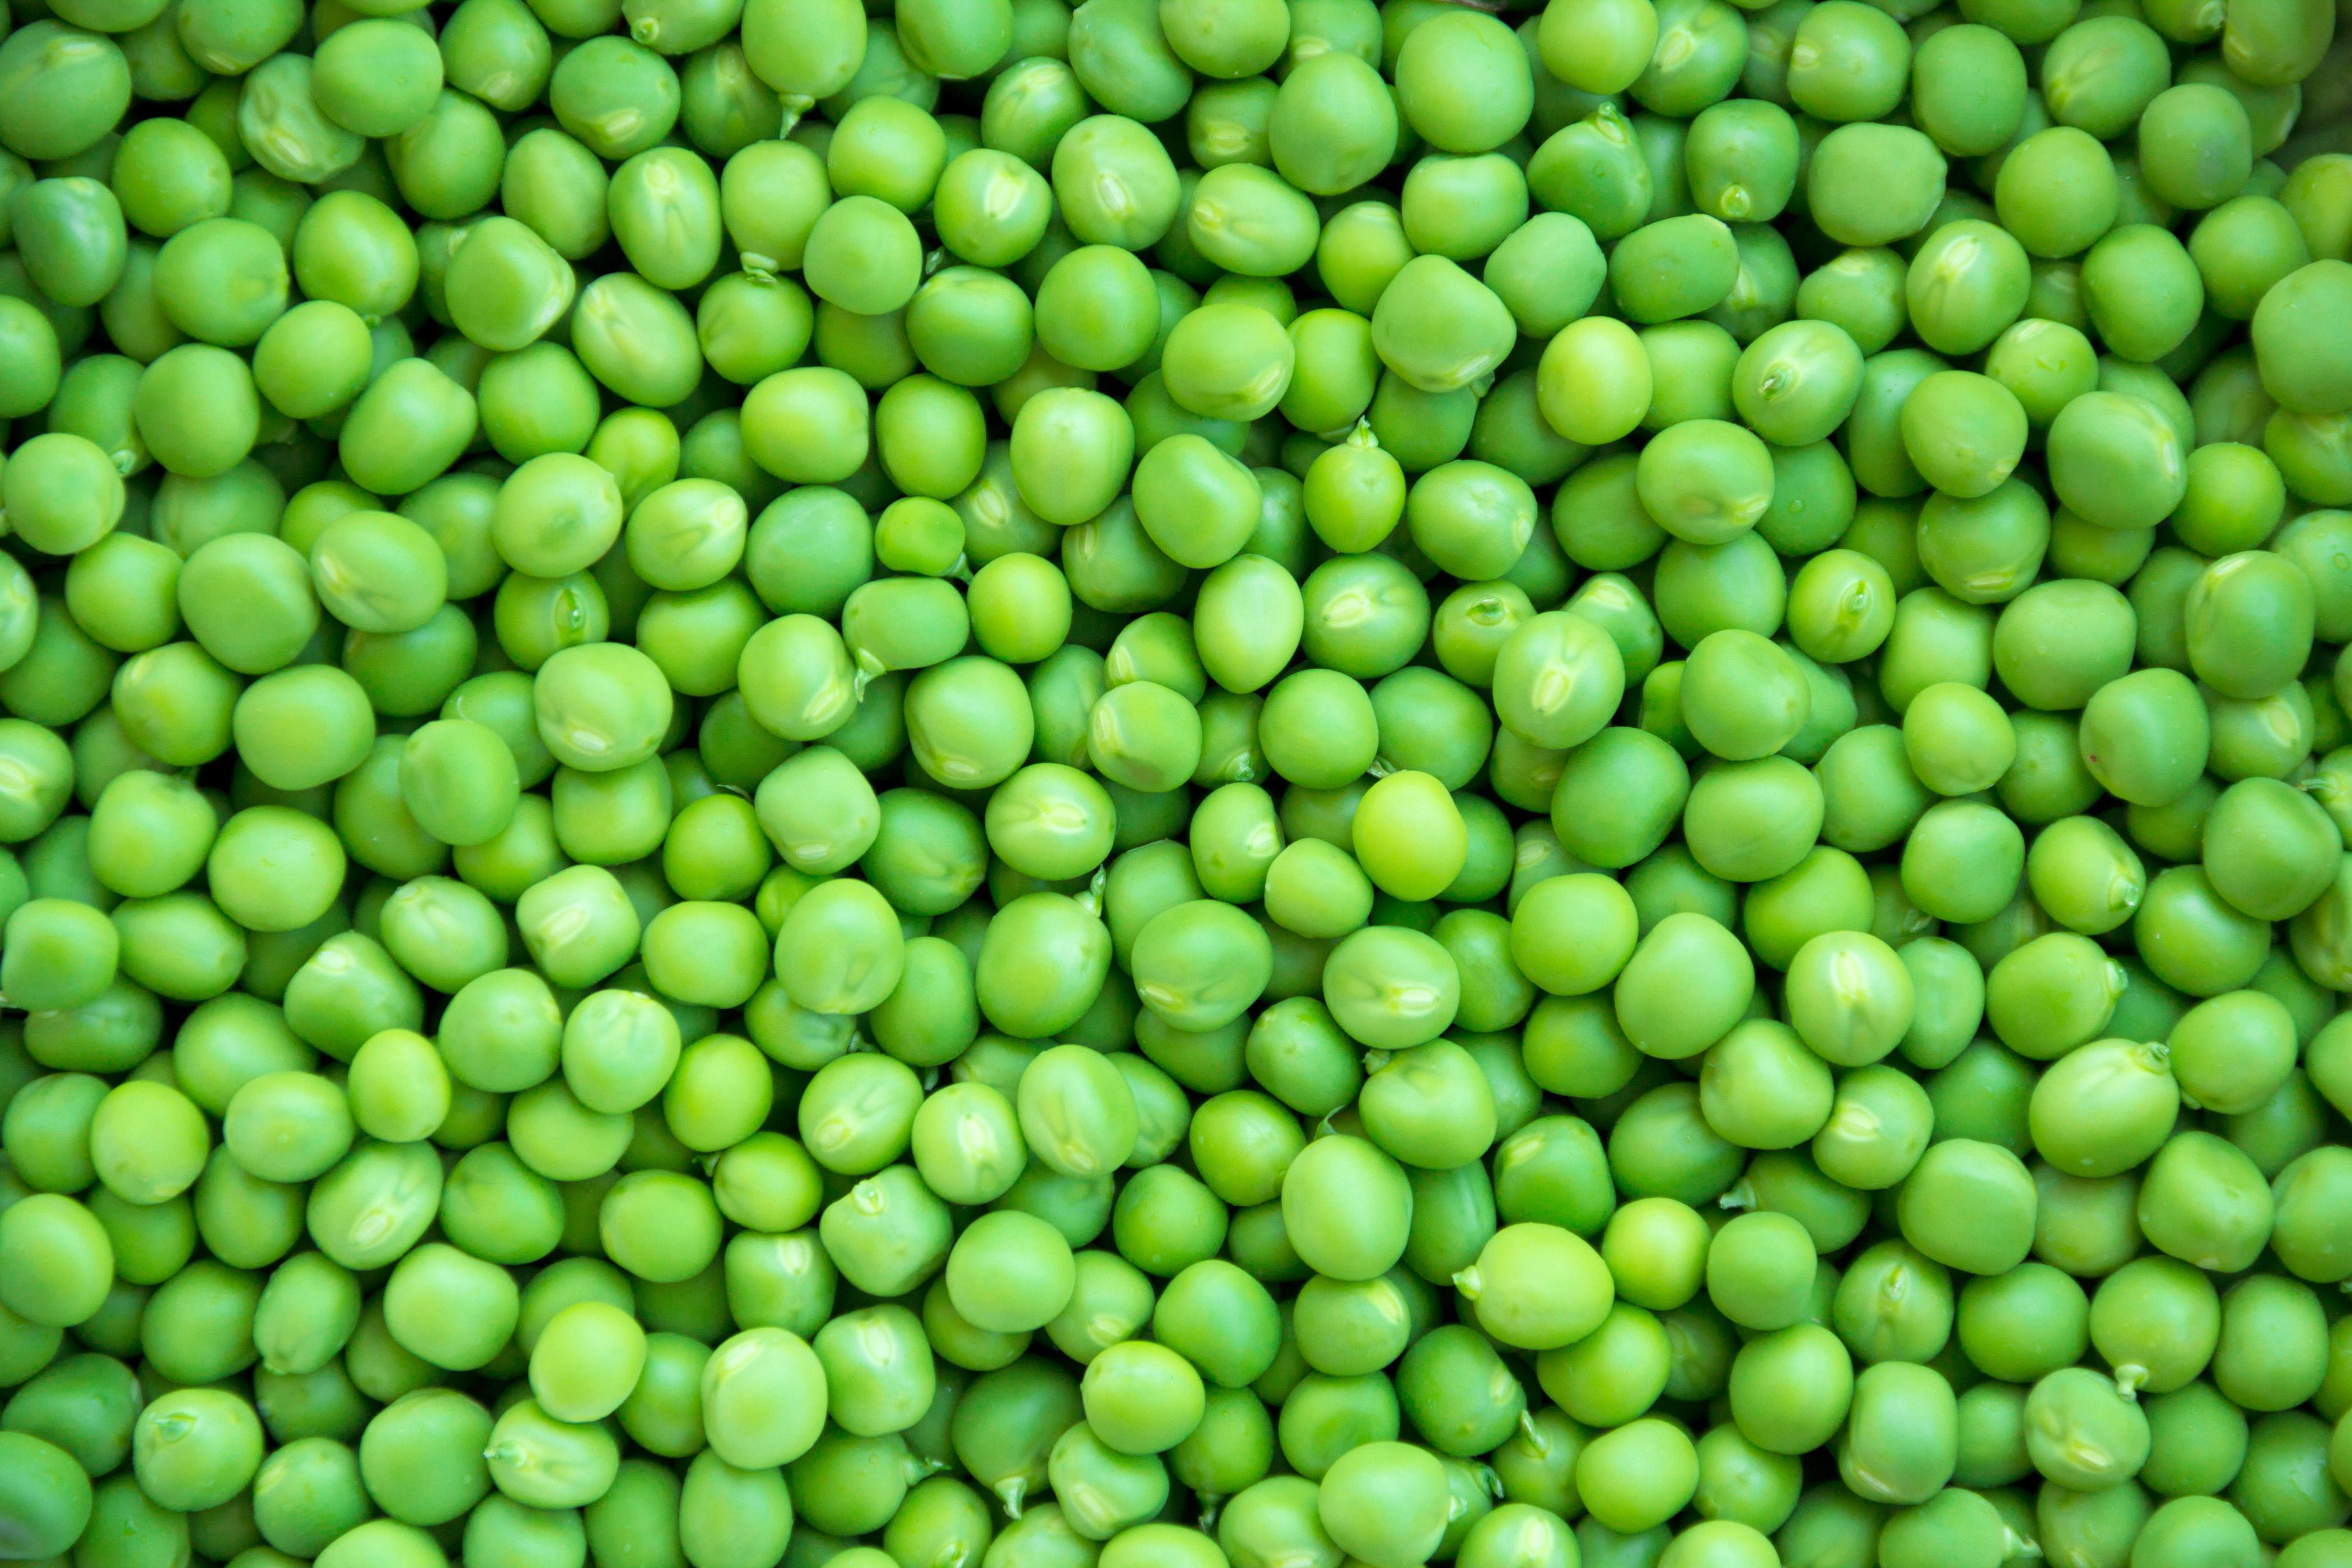peas: (4, 0, 2347, 1566)
